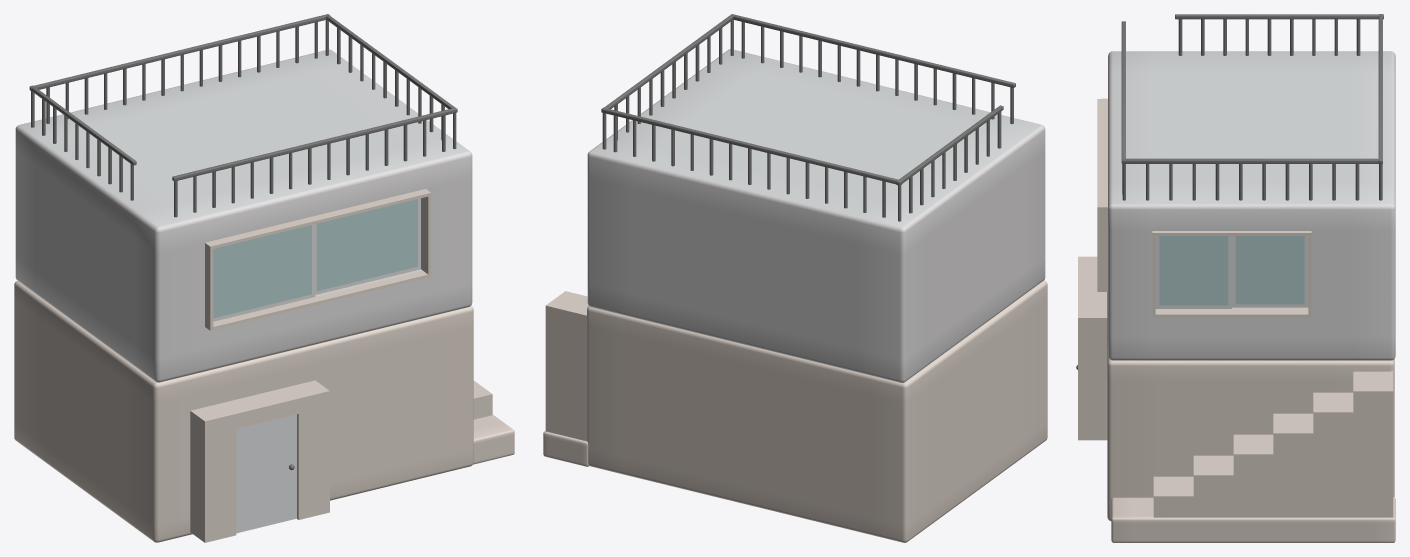
Rendered from house1.glb.
The picture shows the model from 3 angles, left to right: view 1: azimuth 30°, elevation 25°; view 2: azimuth 150°, elevation 25°; view 3: azimuth 270°, elevation 25°; orthographic projection.
Parts seen in each view (by area): view 1: 2층빌라_2_1; view 2: 2층빌라_2_1; view 3: 2층빌라_2_1.
Part boxes in pixels (<box>): 2층빌라_2_1: <box>14,14,514,542</box>; 2층빌라_2_1: <box>543,14,1047,542</box>; 2층빌라_2_1: <box>1076,14,1395,542</box>.
Size of the model in its own units: 18.13 by 16.99 by 13.75.
